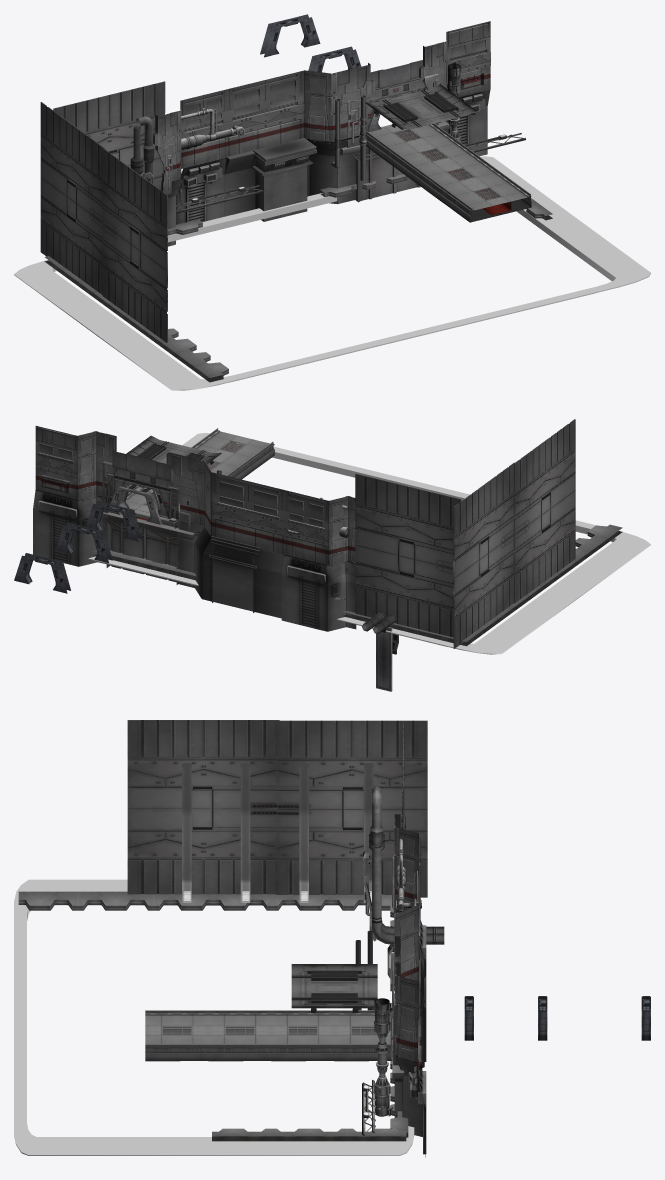
The model's file is env_emp_arquitens_bridgeway_01_pre.glb.
3 views of the same model, one above another, from view 1: azimuth 30°, elevation 25°; view 2: azimuth 150°, elevation 25°; view 3: azimuth 270°, elevation 25° (orthographic). The views are drawn at different scales.
Visible parts, largest first — view 1: hangar_archfrieze_mesh (1), emp_arq_wall_03_mesh (1), emp_arq_wall_01b_mesh, emp_arq_wall_03_mesh, emp_arq_wall_02b_mesh, emp_arq_wall_03_mesh (2), emp_arq_wall_01b_mesh (1), emp_arq_wall_01a_mesh, emp_arq_wall_02a_mesh (1), emp_arq_ceiling_lights_01a_mesh, emp_arq_bridge_01c_mesh (2), emp_arq_bridge_01c_mesh (+13 smaller); view 2: emp_arq_wall_03_mesh (2), emp_arq_wall_03_mesh (1), emp_arq_wall_03_mesh, hangar_archfrieze_mesh (1), emp_arq_wall_01b_mesh, emp_arq_wall_02b_mesh, emp_arq_wall_01a_mesh, emp_arq_wall_02a_mesh (1), emp_arq_wall_01b_mesh (1), emp_arq_wall_02a_mesh, emp_arq_wall_arch_01_mesh, emp_arq_wall_04_mesh (+11 smaller); view 3: emp_arq_wall_03_mesh (1), emp_arq_wall_03_mesh, hangar_archfrieze_mesh (1), emp_arq_ceiling_lights_01a_mesh, emp_arq_bridge_01c_mesh (2), emp_arq_bridge_01c_mesh (3), emp_arq_bridge_01c_mesh, emp_arq_curb_01_mesh (4), emp_arq_pipes_03b_mesh, emp_arq_wall_01a_mesh, emp_arq_curb_01_mesh, emp_arq_bridge_01c_mesh (1) (+12 smaller).
Part boxes in pixels (x1=…): hangar_archfrieze_mesh (1): x1=14, y1=156, x2=650, y2=390; emp_arq_wall_03_mesh (1): x1=102, y1=148, x2=167, y2=342; emp_arq_wall_01b_mesh: x1=226, y1=63, x2=375, y2=156; emp_arq_wall_03_mesh: x1=40, y1=102, x2=105, y2=294; emp_arq_wall_02b_mesh: x1=224, y1=135, x2=359, y2=221; emp_arq_wall_03_mesh (2): x1=53, y1=81, x2=165, y2=190; emp_arq_wall_01b_mesh (1): x1=153, y1=89, x2=226, y2=194; emp_arq_wall_01a_mesh: x1=419, y1=21, x2=490, y2=125; emp_arq_wall_02a_mesh (1): x1=167, y1=158, x2=226, y2=246; emp_arq_ceiling_lights_01a_mesh: x1=365, y1=84, x2=476, y2=130; emp_arq_bridge_01c_mesh (2): x1=443, y1=174, x2=531, y2=222; emp_arq_bridge_01c_mesh: x1=389, y1=135, x2=476, y2=183; emp_arq_wall_03_mesh (2): x1=355, y1=473, x2=461, y2=639; emp_arq_wall_03_mesh (1): x1=513, y1=419, x2=575, y2=603; emp_arq_wall_03_mesh: x1=453, y1=462, x2=514, y2=648; hangar_archfrieze_mesh (1): x1=88, y1=433, x2=650, y2=654; emp_arq_wall_01b_mesh: x1=162, y1=452, x2=285, y2=554; emp_arq_wall_02b_mesh: x1=177, y1=520, x2=283, y2=618; emp_arq_wall_01a_mesh: x1=35, y1=426, x2=116, y2=503; emp_arq_wall_02a_mesh (1): x1=281, y1=554, x2=356, y2=631; emp_arq_wall_01b_mesh (1): x1=285, y1=490, x2=355, y2=565; emp_arq_wall_02a_mesh: x1=33, y1=489, x2=108, y2=566; emp_arq_wall_arch_01_mesh: x1=106, y1=451, x2=178, y2=524; emp_arq_wall_04_mesh: x1=100, y1=508, x2=194, y2=584; emp_arq_wall_03_mesh (1): x1=127, y1=720, x2=279, y2=894; emp_arq_wall_03_mesh: x1=276, y1=720, x2=427, y2=897; hangar_archfrieze_mesh (1): x1=14, y1=879, x2=414, y2=1155; emp_arq_ceiling_lights_01a_mesh: x1=291, y1=964, x2=377, y2=1012; emp_arq_bridge_01c_mesh (2): x1=145, y1=1010, x2=208, y2=1061; emp_arq_bridge_01c_mesh (3): x1=208, y1=1010, x2=271, y2=1061; emp_arq_bridge_01c_mesh: x1=271, y1=1010, x2=334, y2=1061; emp_arq_curb_01_mesh (4): x1=18, y1=891, x2=213, y2=910; emp_arq_pipes_03b_mesh: x1=363, y1=786, x2=444, y2=978; emp_arq_wall_01a_mesh: x1=390, y1=963, x2=422, y2=1079; emp_arq_curb_01_mesh: x1=212, y1=1128, x2=406, y2=1141; emp_arq_bridge_01c_mesh (1): x1=334, y1=1010, x2=392, y2=1061.
Bounding box in the file's own units: 79.98 × 33.55 × 75.56.
Materials: 19 (19 with a texture image).
